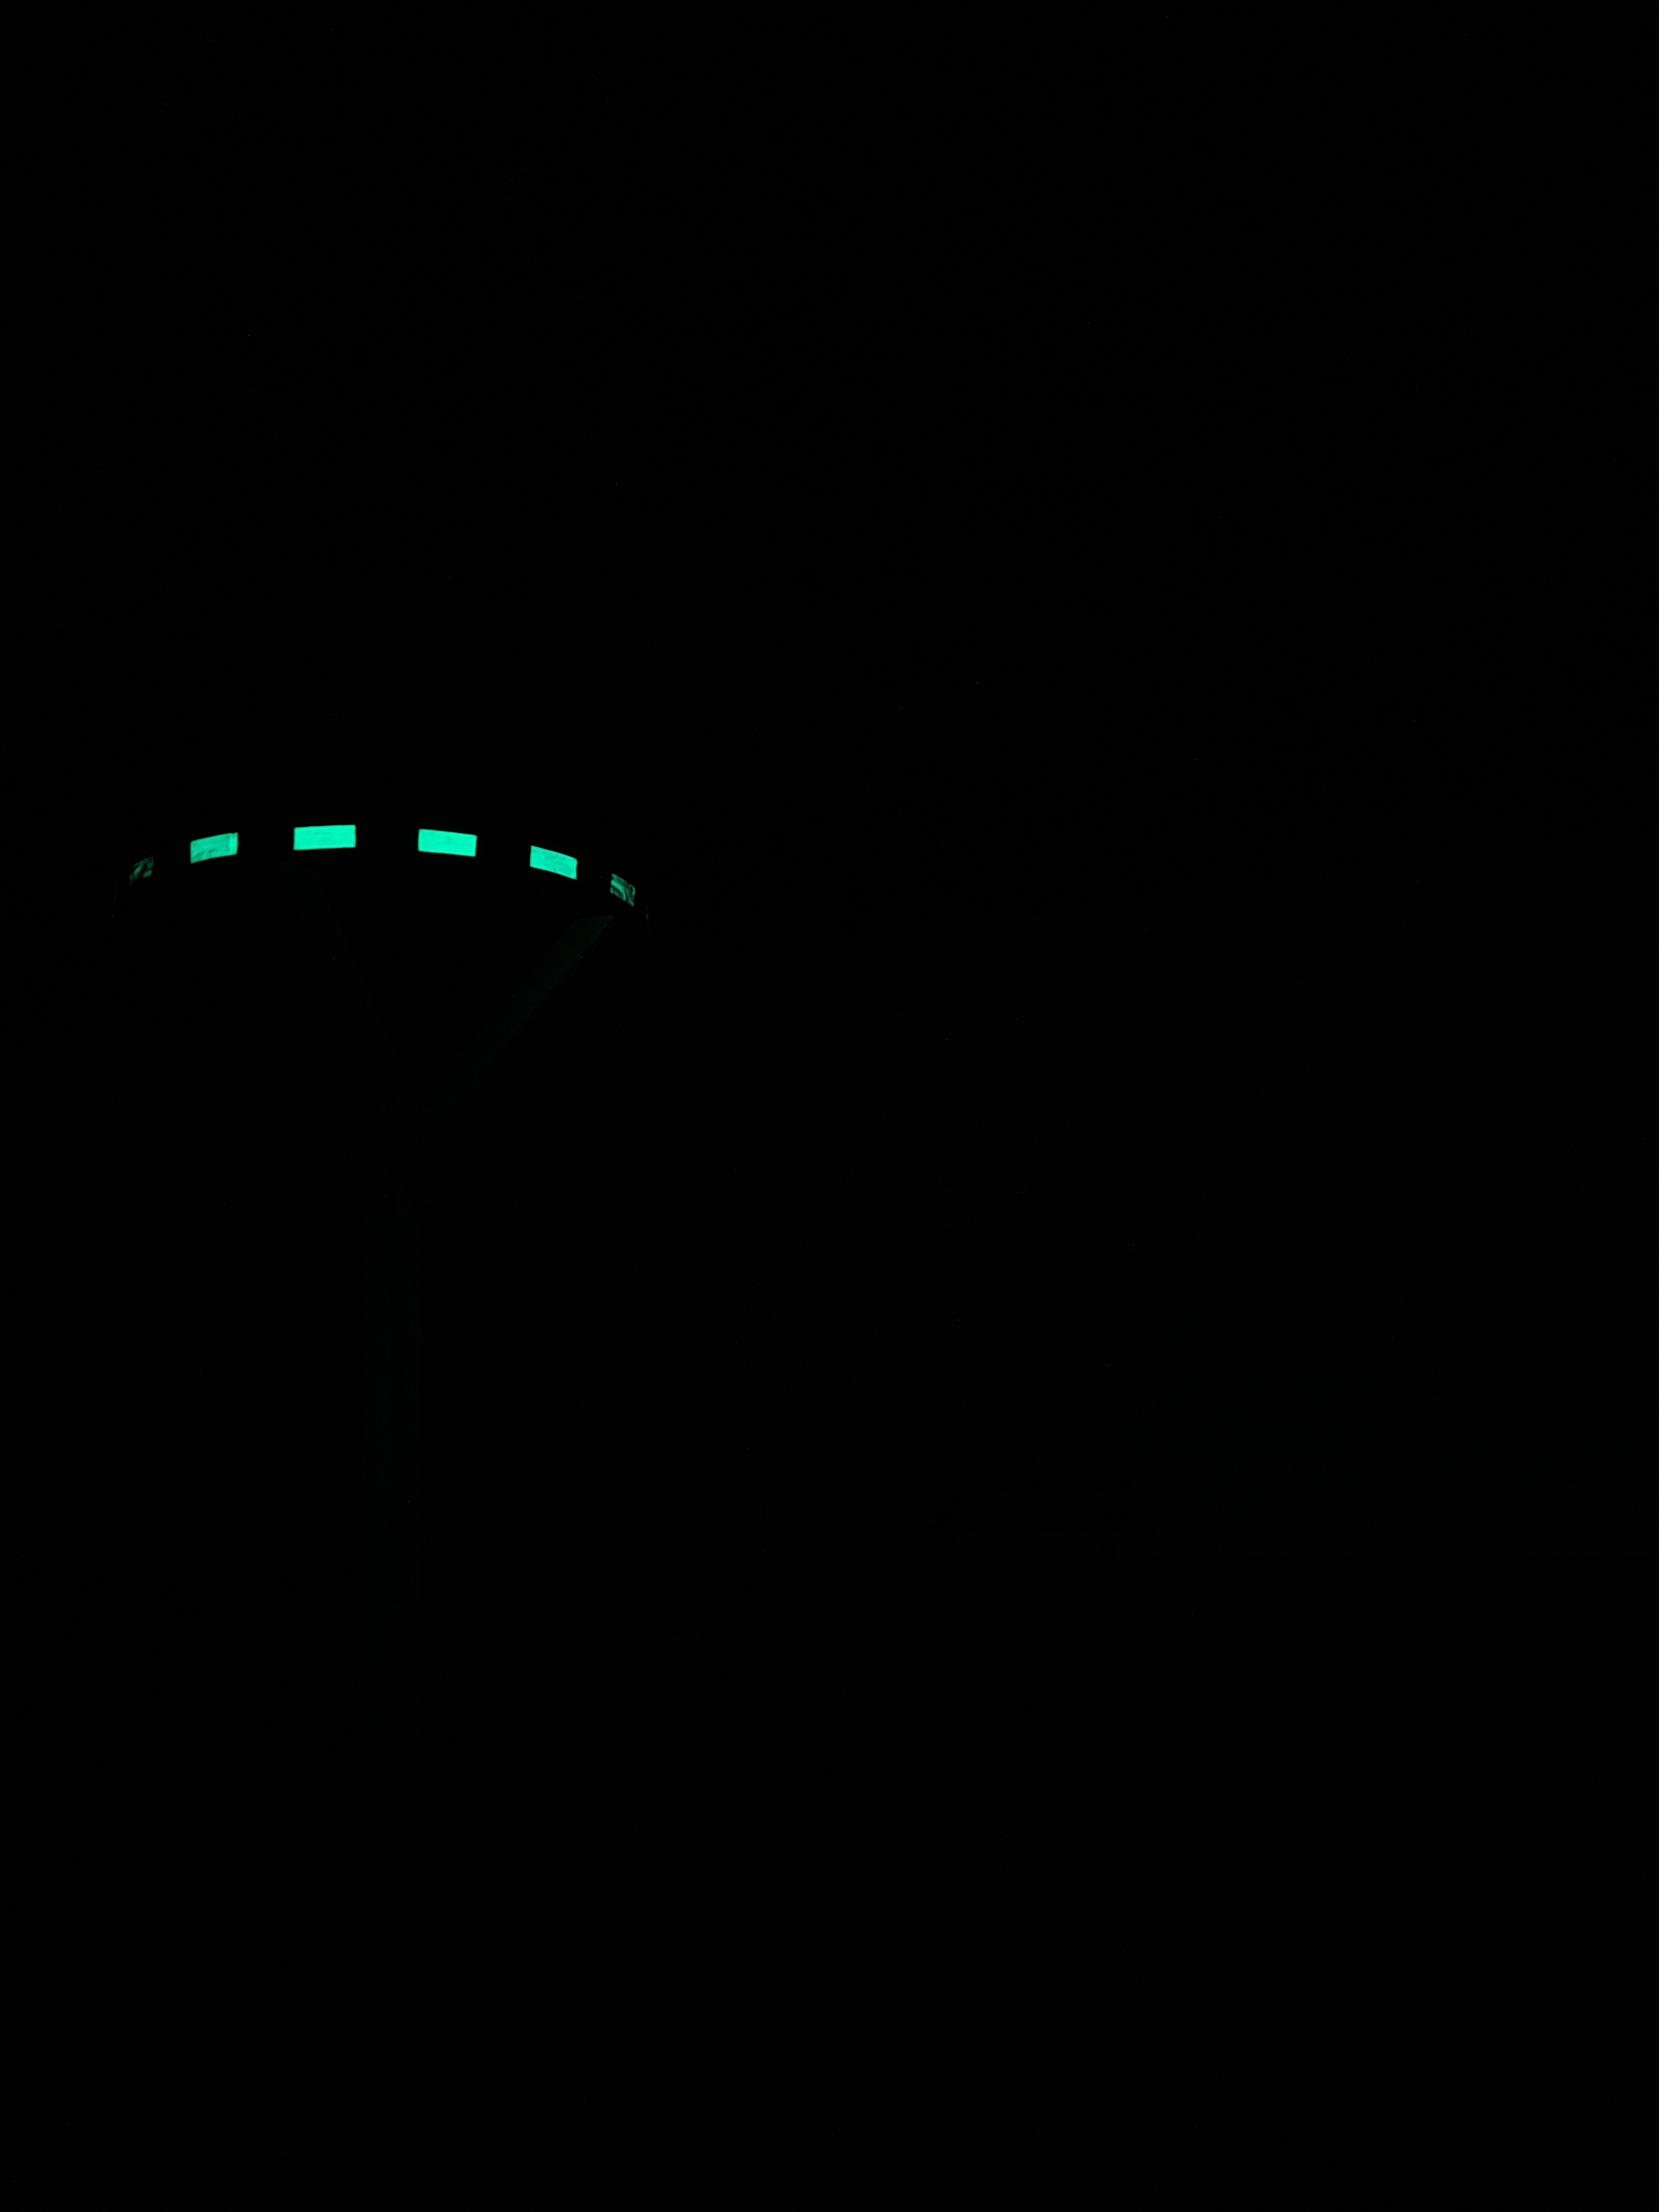hoop: (98, 813, 643, 923)
